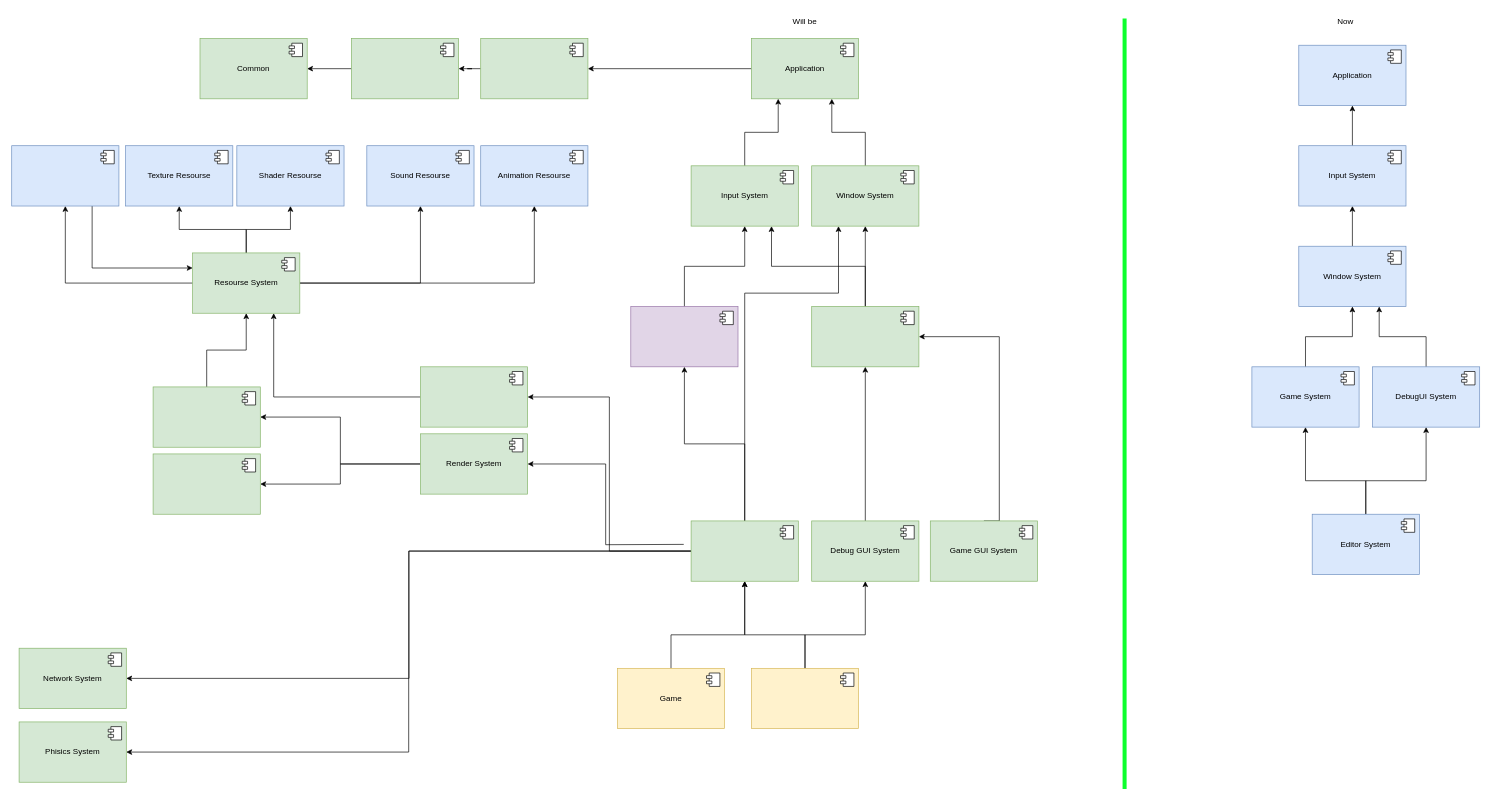
The diagram is 1491 pixels wide and 803 high, and some of its shapes have lost their labels. Each missing label, with the centre of its shape:
"Actor System" goes at [474,396].
"Backend GUI System" goes at [865,336].
"Common Game System" goes at [744,550].
"Config Var System" goes at [534,68].
"Debug Var System" goes at [405,68].
"Editor" goes at [805,698].
"Input Manager" goes at [684,336].
"Model Resourse" goes at [65,175].
"Shader System" goes at [206,416].
"Texture Manager" goes at [206,483].
